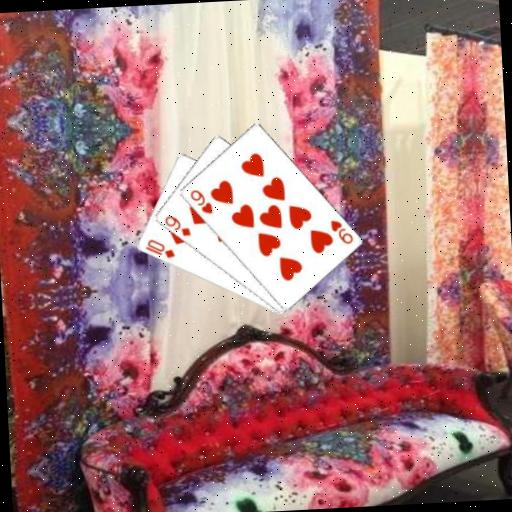10D: (142, 235, 177, 261)
9D: (162, 212, 193, 239)
9H: (186, 186, 214, 217), (327, 216, 355, 246)
